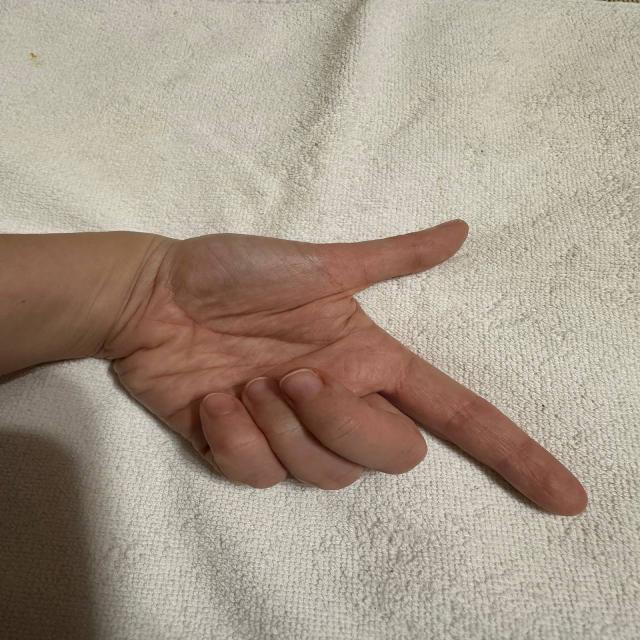g: (111, 210, 613, 527)
